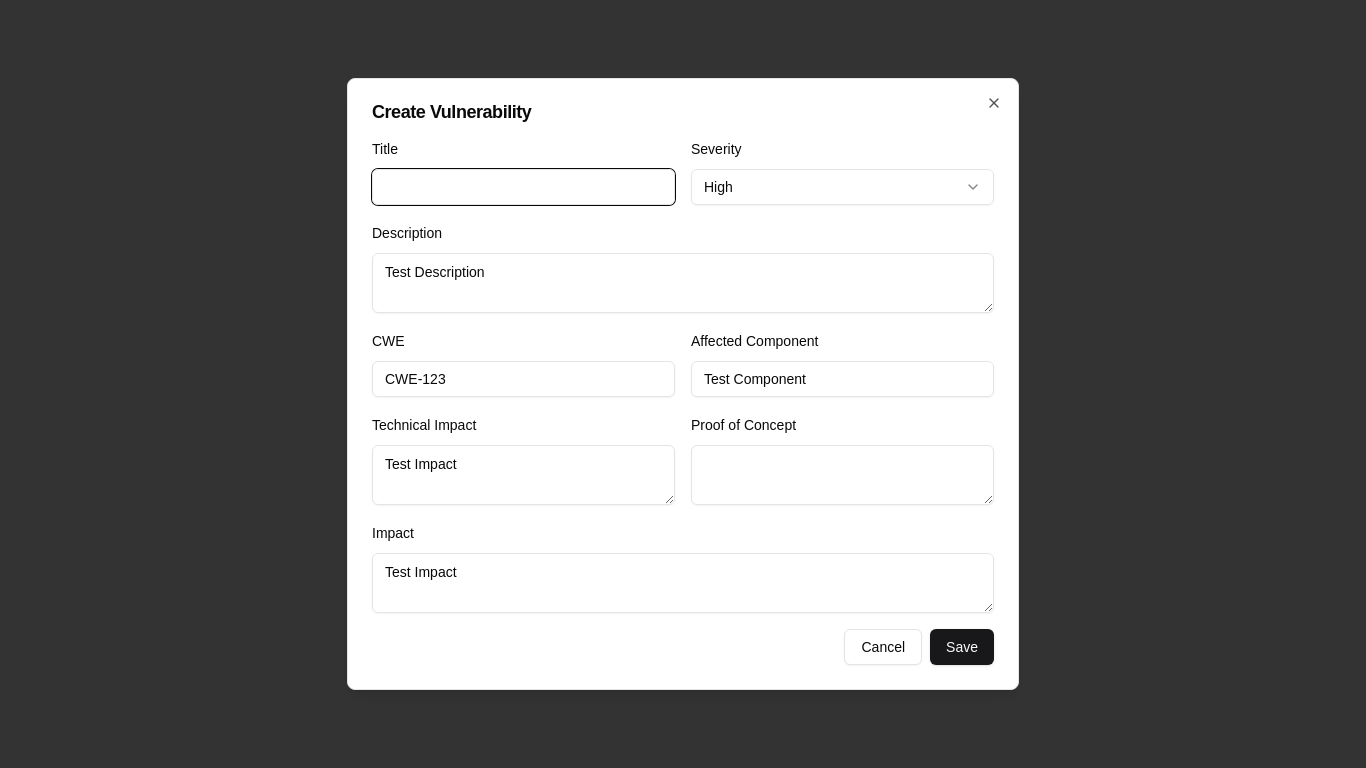
VulnerabilityDialog › validates required fields in create mode
Click the button "Save" at (962, 647), box [930,629,994,665]
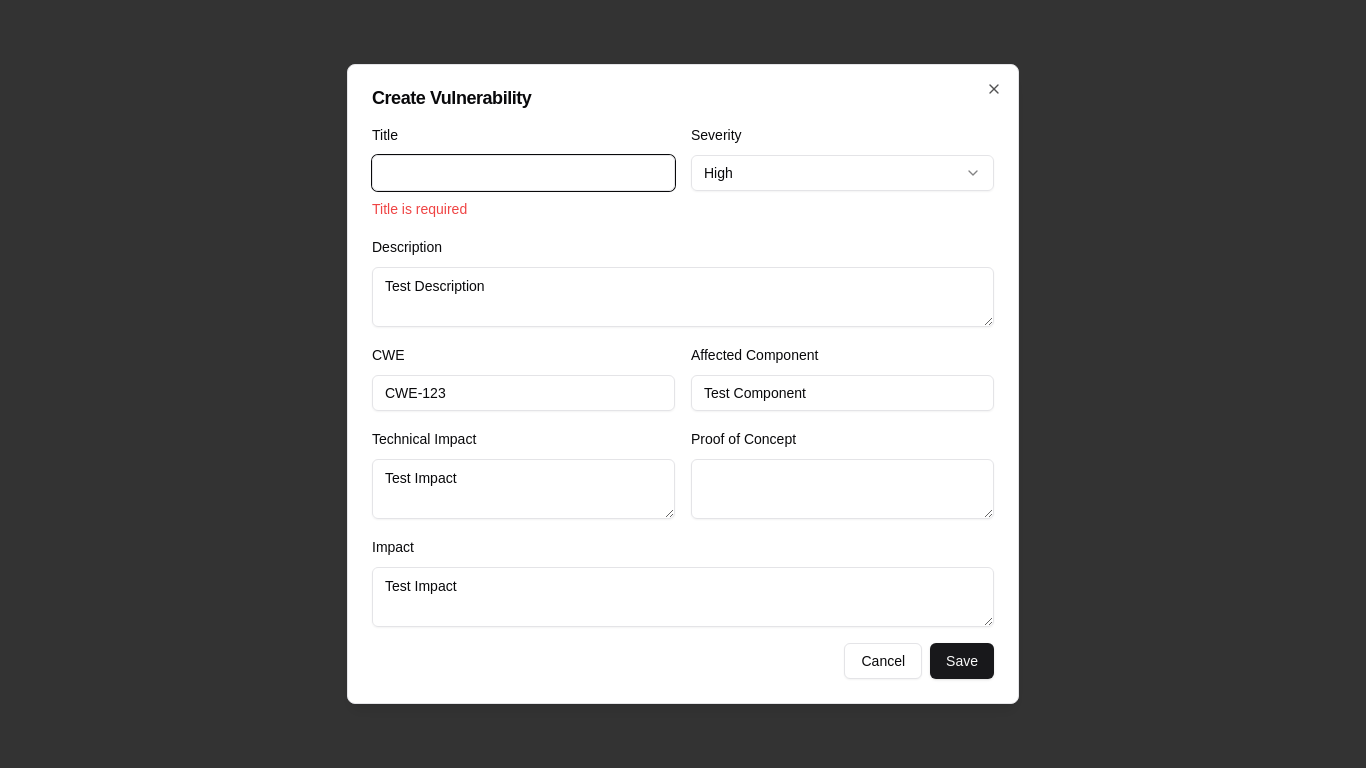
Check: the text "Title is required" is shown, box [372,201,467,217]
